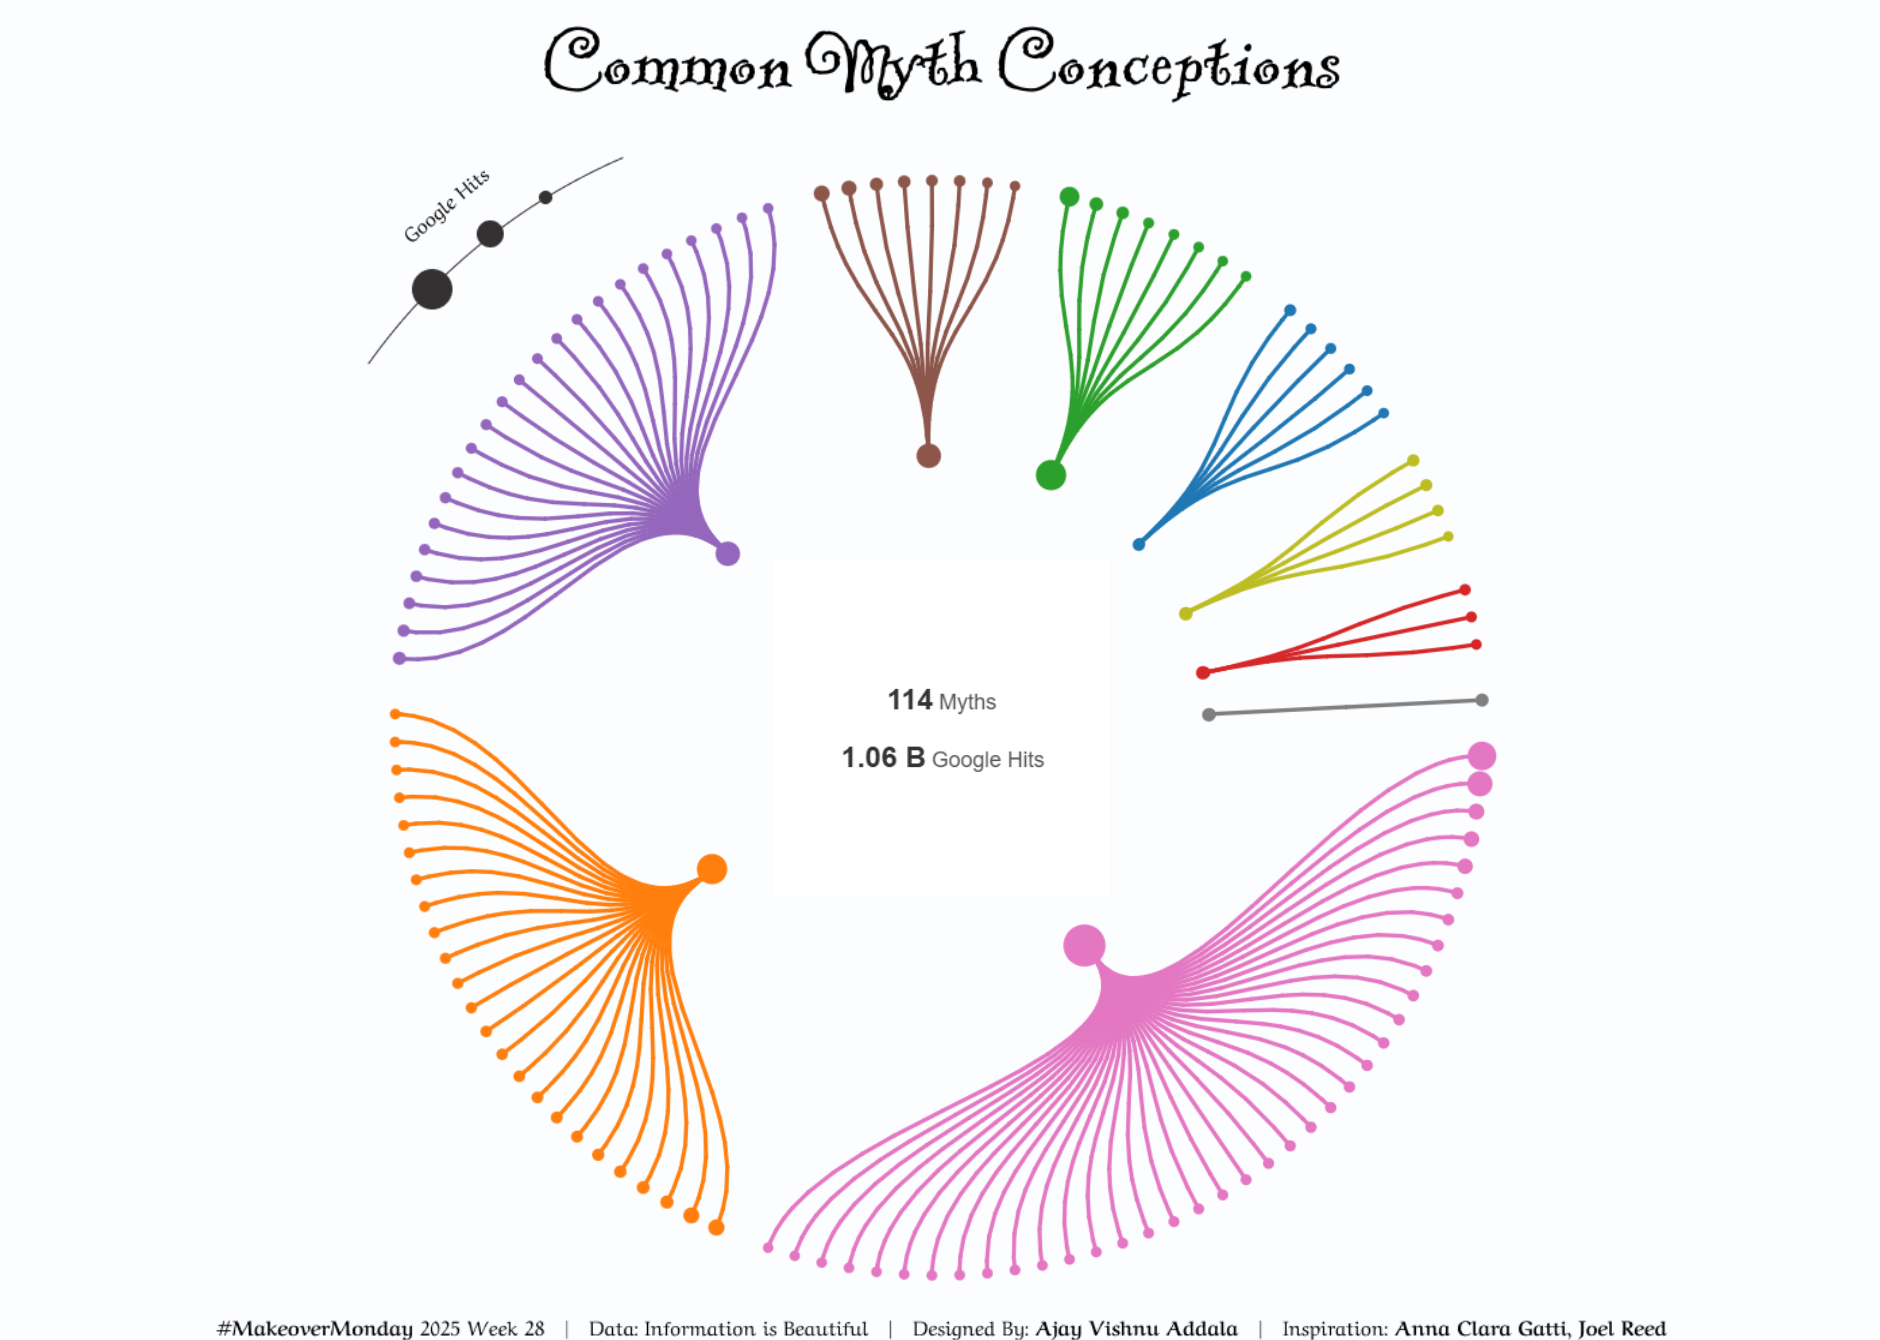

What the dashboard file says about the page in this screenshot:
{"tool":"tableau","page":{"name":"MOM Week 28","canvas":[1613,1000],"ordinal":0},"visuals":[{"type":"image","param":"Image/Frame 2 (1).png","box":[0,0,1613,1000]},{"type":"worksheet","title":"Radial Tree","mark":"Automatic","box":[357,90,900,900]},{"type":"worksheet","title":"Mind","mark":"Shape","box":[787,328,20,20]},{"type":"worksheet","title":"Food","mark":"Shape","box":[875,340,25,25]},{"type":"worksheet","title":"Biology","mark":"Shape","box":[942,394,20,20]},{"type":"worksheet","title":"Medicine","mark":"Shape","box":[638,401,20,20]},{"type":"worksheet","title":"KPI","mark":"Automatic","box":[682,415,250,250]},{"type":"worksheet","title":"Technology","mark":"Shape","box":[977,445,20,20]},{"type":"worksheet","title":"Language","mark":"Shape","box":[990,489,20,20]},{"type":"worksheet","title":"Sport","mark":"Shape","box":[994,520,20,20]},{"type":"worksheet","title":"Culture","mark":"Shape","box":[624,632,25,25]},{"type":"worksheet","title":"Science","mark":"Shape","box":[896,685,32,32]}]}

Visuals, with their boxes on the page's 1613x1000 design canvas (x1, y1, x2, y2). These are canvas units, not pixel positions in the 1880x1340 screenshot, which may show the page scaled, cropped or inside an application window:
image: 0, 0, 1613, 1000
"Radial Tree" worksheet: 357, 90, 1257, 990
"Mind" worksheet (Shape marks): 787, 328, 807, 348
"Food" worksheet (Shape marks): 875, 340, 900, 365
"Biology" worksheet (Shape marks): 942, 394, 962, 414
"Medicine" worksheet (Shape marks): 638, 401, 658, 421
"KPI" worksheet: 682, 415, 932, 665
"Technology" worksheet (Shape marks): 977, 445, 997, 465
"Language" worksheet (Shape marks): 990, 489, 1010, 509
"Sport" worksheet (Shape marks): 994, 520, 1014, 540
"Culture" worksheet (Shape marks): 624, 632, 649, 657
"Science" worksheet (Shape marks): 896, 685, 928, 717
